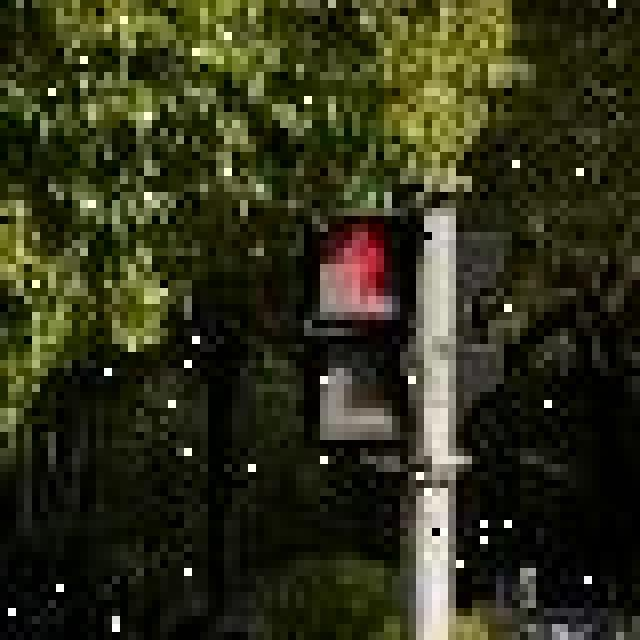redlight: (308, 230, 424, 456)
